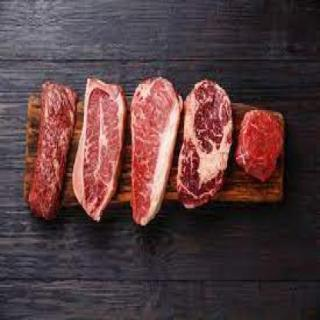Daging Sapi: (73, 80, 128, 227), (131, 74, 179, 226), (180, 81, 234, 209), (31, 82, 78, 218), (237, 112, 285, 181)
